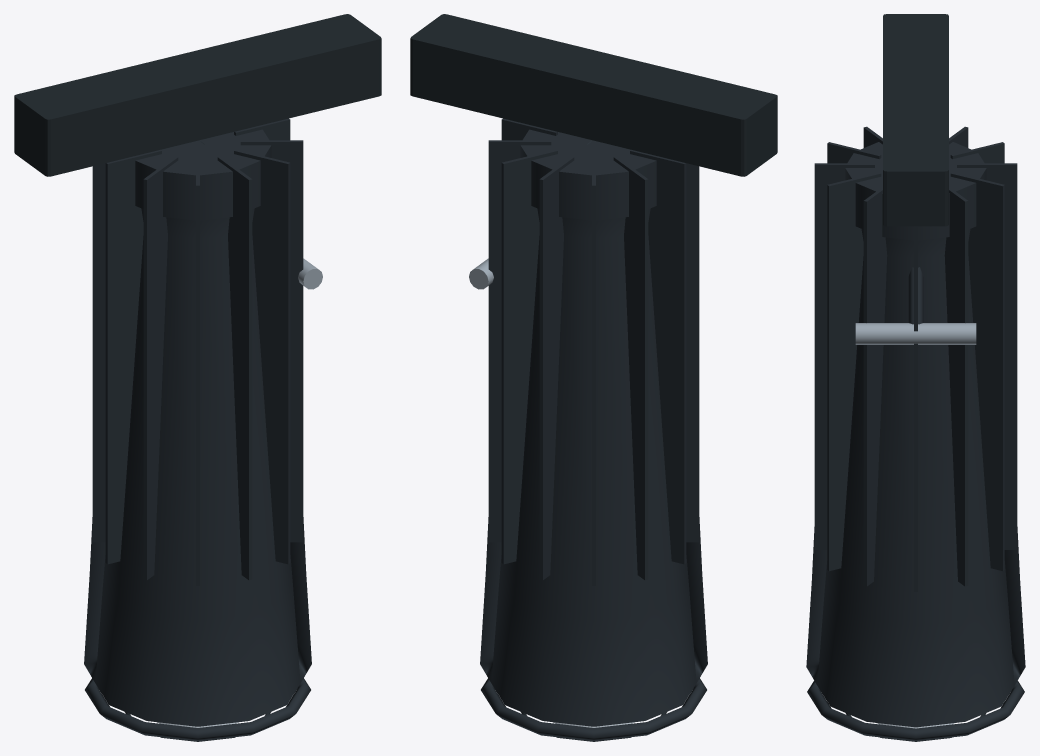
File: source.glb
3 renders of one model, left to right at view 1: azimuth 30°, elevation 25°; view 2: azimuth 150°, elevation 25°; view 3: azimuth 270°, elevation 25°, orthographic. The views are drawn at different scales.
Visible parts, largest first — view 1: 粉末涂层铝壳, 密封及绝缘件; view 2: 粉末涂层铝壳, 密封及绝缘件; view 3: 粉末涂层铝壳, 密封及绝缘件, 机加工金属.
Part boxes in pixels (x1=…): 粉末涂层铝壳: x1=84, y1=118, x2=311, y2=741; 密封及绝缘件: x1=14, y1=14, x2=381, y2=741; 粉末涂层铝壳: x1=480, y1=118, x2=707, y2=741; 密封及绝缘件: x1=410, y1=14, x2=777, y2=741; 粉末涂层铝壳: x1=806, y1=126, x2=1025, y2=741; 密封及绝缘件: x1=845, y1=14, x2=986, y2=741; 机加工金属: x1=855, y1=323, x2=976, y2=344.
Size of the model in its own units: 0.136 by 0.2495 by 0.08.
